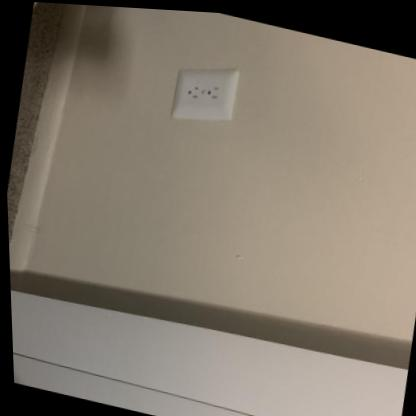OUTLET: (167, 56, 241, 134)
